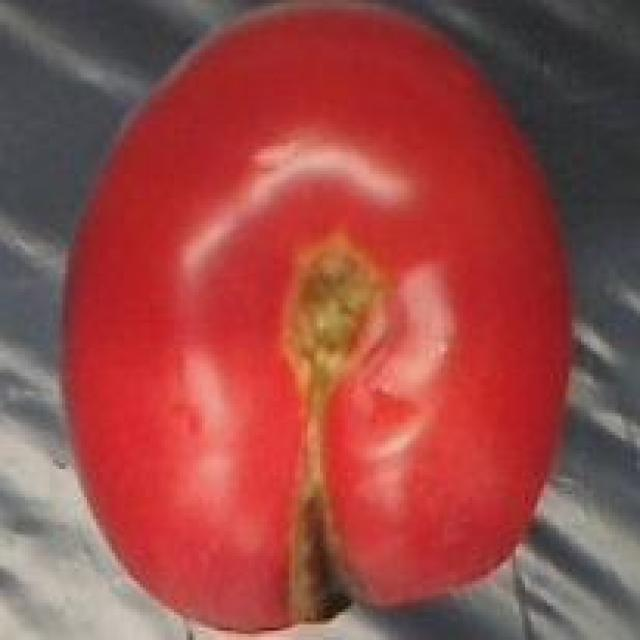overripe tomato: (53, 0, 587, 640)
